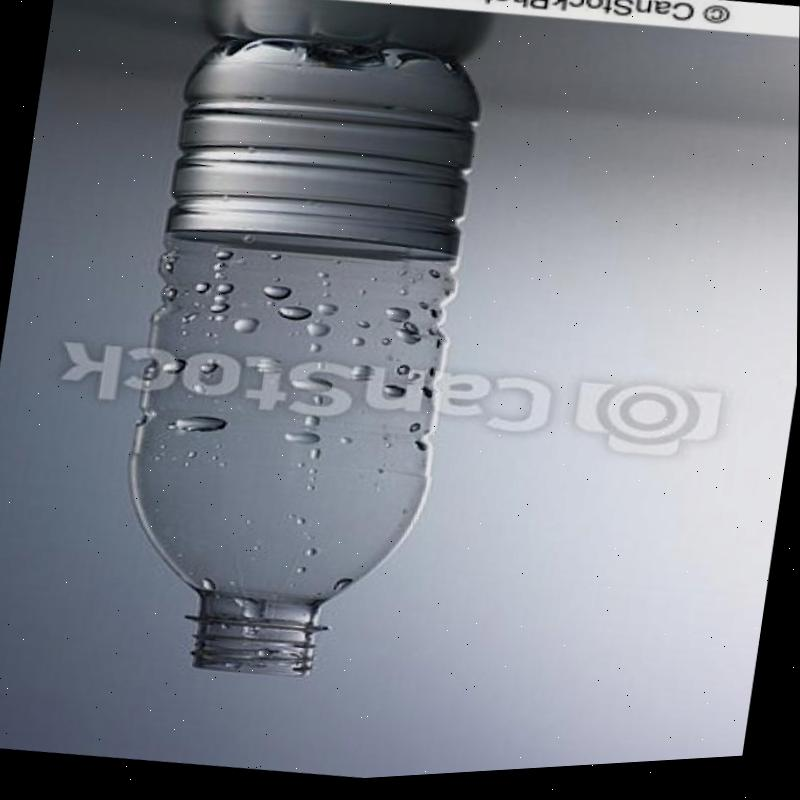botella: (99, 14, 492, 703)
